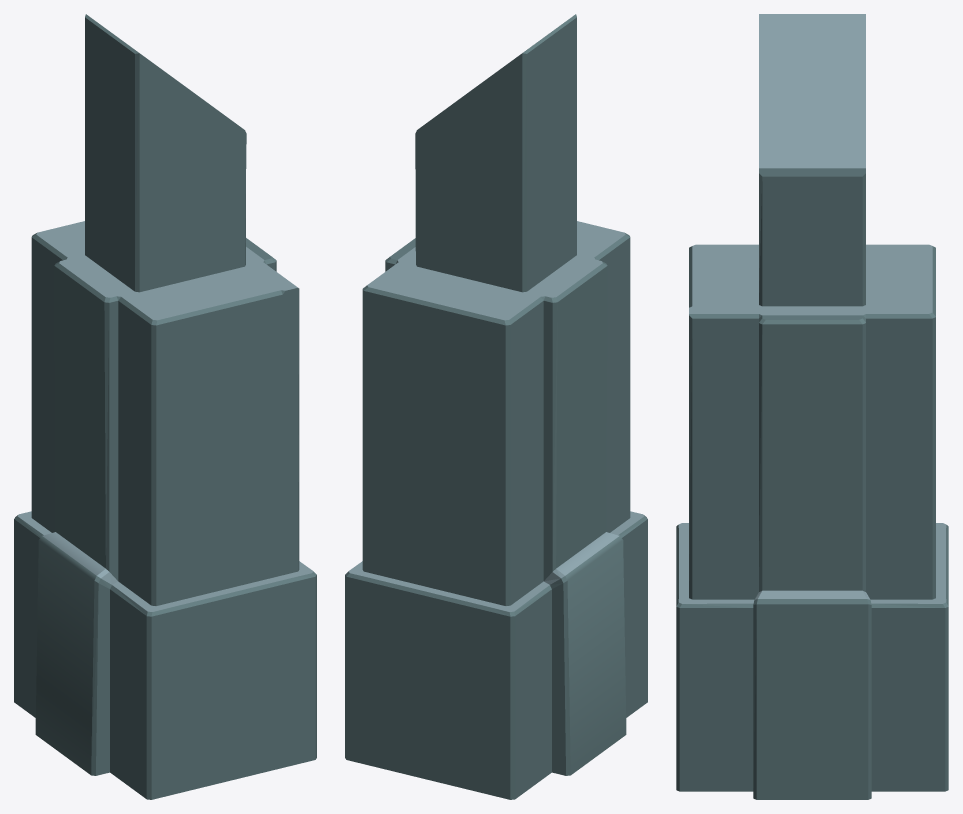
Rendered from Building2.FBX.
The picture shows the model from 3 angles, left to right: view 1: azimuth 30°, elevation 25°; view 2: azimuth 150°, elevation 25°; view 3: azimuth 270°, elevation 25°; orthographic projection.
Visible parts, largest first — view 1: Box001; view 2: Box001; view 3: Box001.
Part boxes in pixels (x1=…): Box001: x1=14, y1=14, x2=316, y2=799; Box001: x1=345, y1=14, x2=647, y2=799; Box001: x1=676, y1=14, x2=948, y2=799.
Size of the model in its own units: 21.67 by 71.91 by 25.01.
